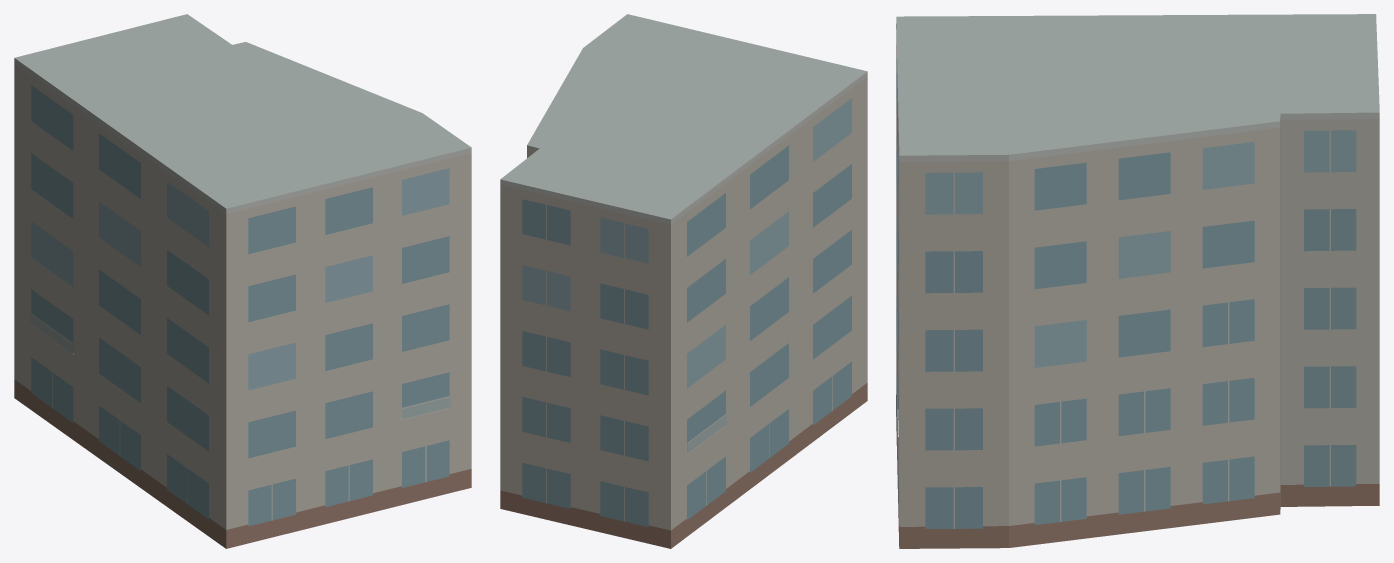
File: survey-upis-33011460.glb
3 views of the same model, side by side, from view 1: azimuth 30°, elevation 25°; view 2: azimuth 150°, elevation 25°; view 3: azimuth 270°, elevation 25° (orthographic). The views are drawn at different scales.
Visible parts, largest first — view 1: survey-upis-33011460.tmp; view 2: survey-upis-33011460.tmp; view 3: survey-upis-33011460.tmp.
Boxes of the visible parts, left/top/right/bottom form: survey-upis-33011460.tmp: left=14, top=14, right=471, bottom=548; survey-upis-33011460.tmp: left=500, top=14, right=867, bottom=548; survey-upis-33011460.tmp: left=896, top=14, right=1379, bottom=548.
Bounding box in the file's own units: 11.81 × 15.25 × 17.01.
